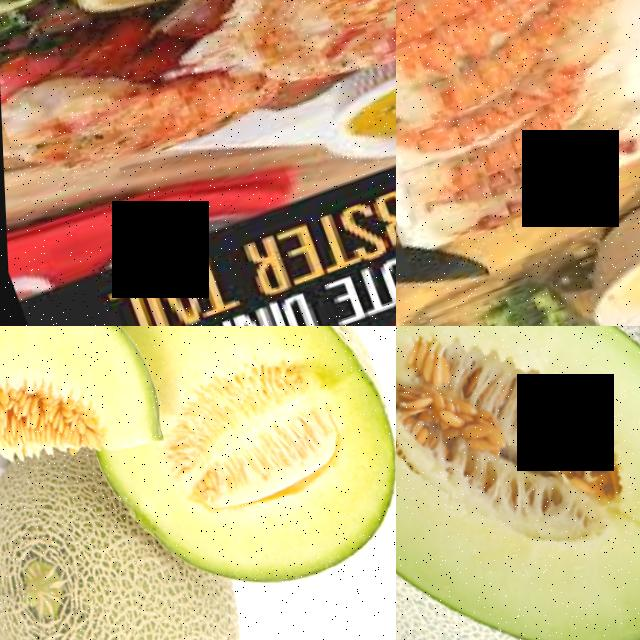lobster tails: (396, 99, 603, 210), (184, 0, 396, 103), (396, 0, 551, 111)
melon: (109, 326, 396, 619), (396, 326, 640, 640), (0, 435, 223, 640), (0, 326, 166, 540)
